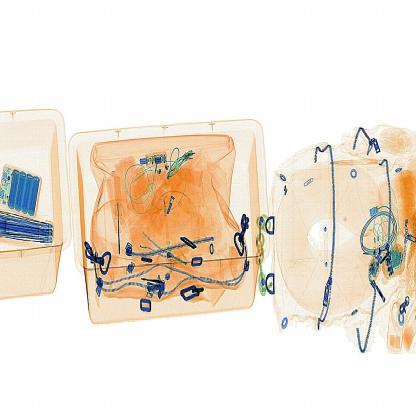wrench: (114, 173, 124, 253)
